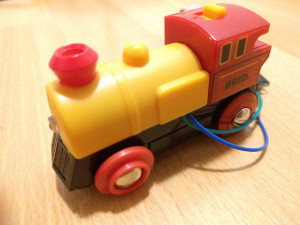brio: (39, 3, 271, 196)
